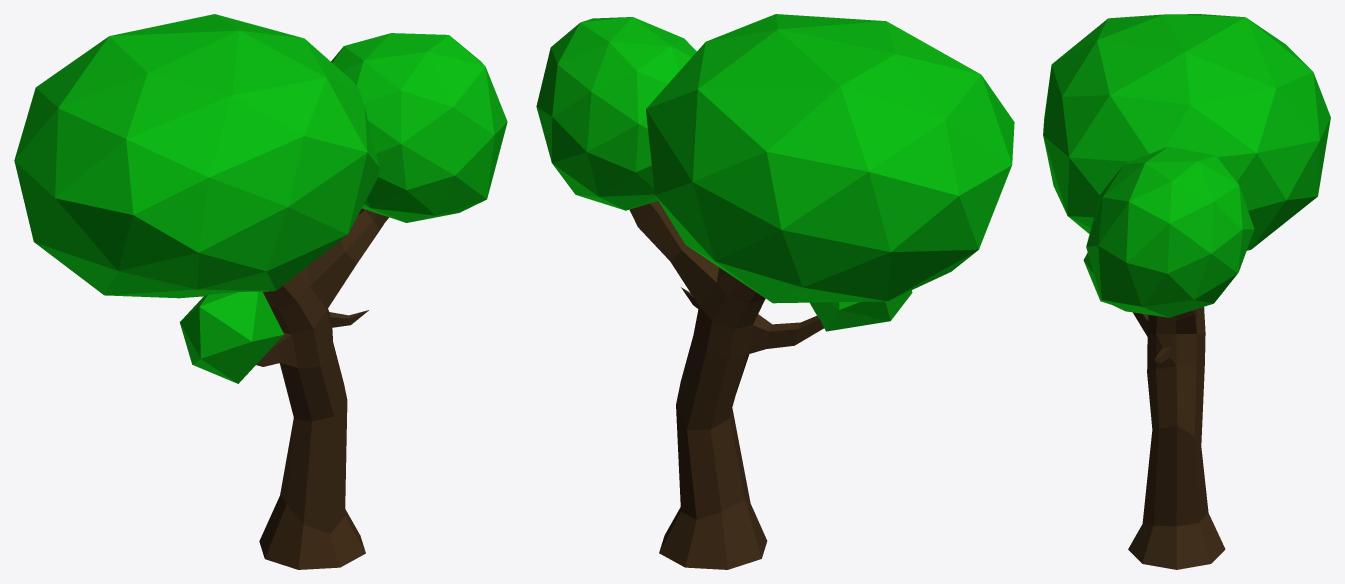
File: plant_tree_play_b.glb
The picture shows the model from 3 angles, left to right: view 1: azimuth 30°, elevation 25°; view 2: azimuth 150°, elevation 25°; view 3: azimuth 270°, elevation 25°; orthographic projection. The views are drawn at different scales.
Visible parts, largest first — view 1: tree.001; view 2: tree.001; view 3: tree.001.
Part boxes in pixels (x1=…): tree.001: x1=14, y1=14, x2=507, y2=569; tree.001: x1=536, y1=14, x2=1014, y2=569; tree.001: x1=1043, y1=14, x2=1330, y2=569.
Bounding box in the file's own units: 5.52 × 6.27 × 3.5.
